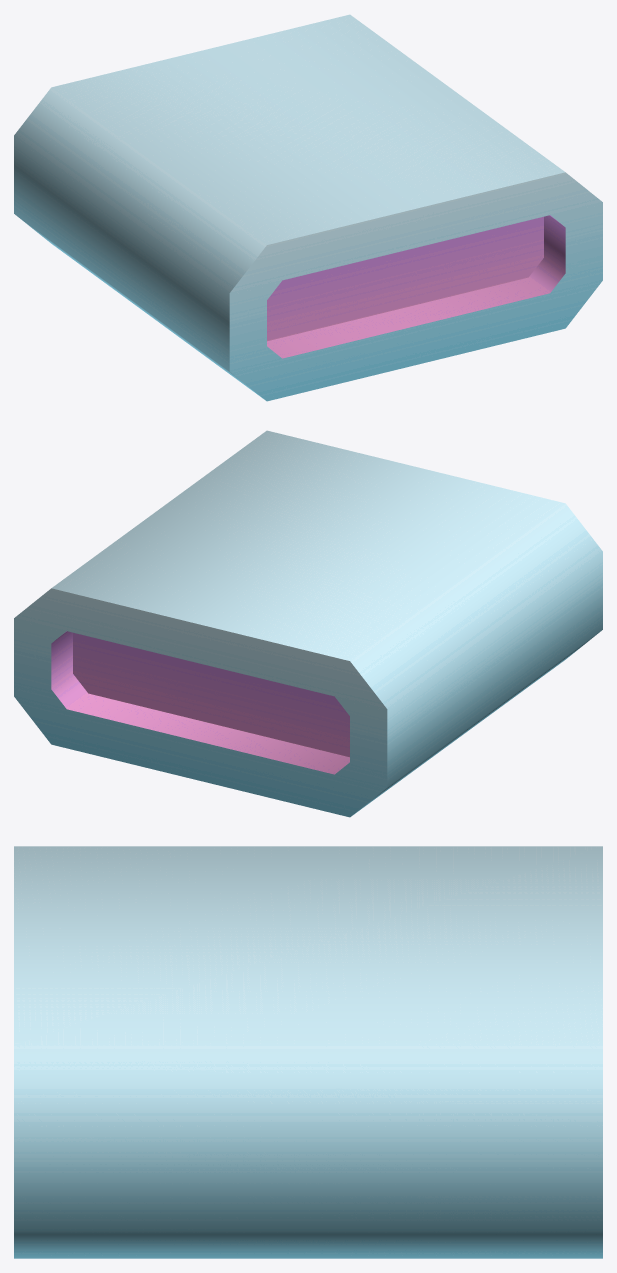
File: conveyor.glb
3 renders of one model, top to bottom at view 1: azimuth 30°, elevation 25°; view 2: azimuth 150°, elevation 25°; view 3: azimuth 270°, elevation 25°, orthographic. The views are drawn at different scales.
Visible parts, largest first — view 1: conveyor; view 2: conveyor; view 3: conveyor.
Boxes of the visible parts, bbox=[...] form: conveyor: bbox=[14, 14, 602, 401]; conveyor: bbox=[14, 430, 602, 817]; conveyor: bbox=[14, 846, 602, 1258].
Bounding box in the file's own units: 1 × 0.4 × 1.
Materials: 1 (1 with a texture image).
